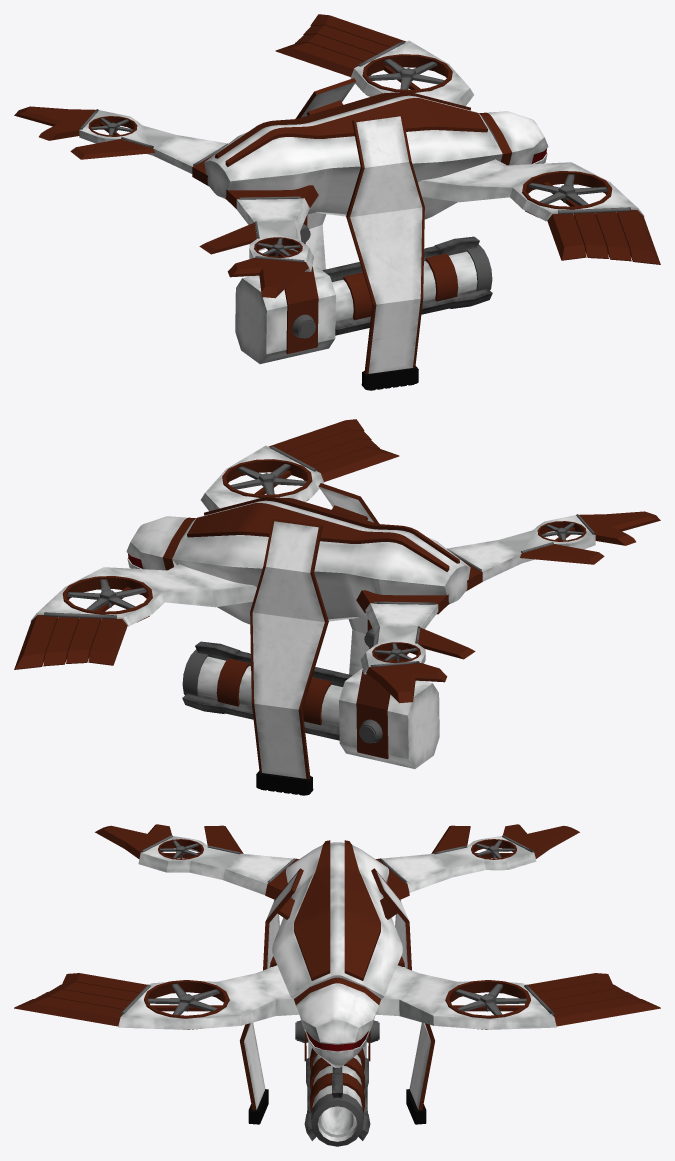
File: CannonFlySpawn.fbx
3 renders of one model, top to bottom at view 1: azimuth 30°, elevation 25°; view 2: azimuth 150°, elevation 25°; view 3: azimuth 270°, elevation 25°, orthographic. The views are drawn at different scales.
Visible parts, largest first — view 1: CannonFlyBody; view 2: CannonFlyBody; view 3: CannonFlyBody.
Boxes of the visible parts, left/top/right/bottom form: CannonFlyBody: left=14, top=14, right=660, bottom=390; CannonFlyBody: left=14, top=419, right=660, bottom=795; CannonFlyBody: left=14, top=824, right=660, bottom=1146.
Bounding box in the file's own units: 1802 × 1067 × 2611.
